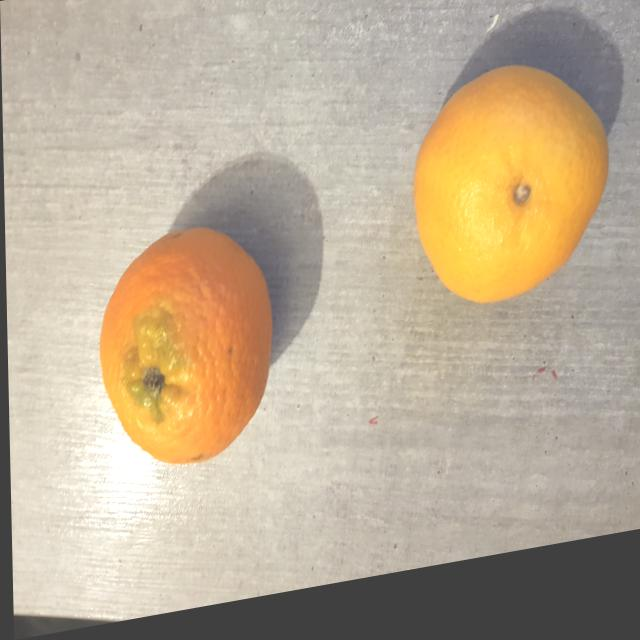Orange: (414, 82, 610, 321), (98, 231, 272, 470)
